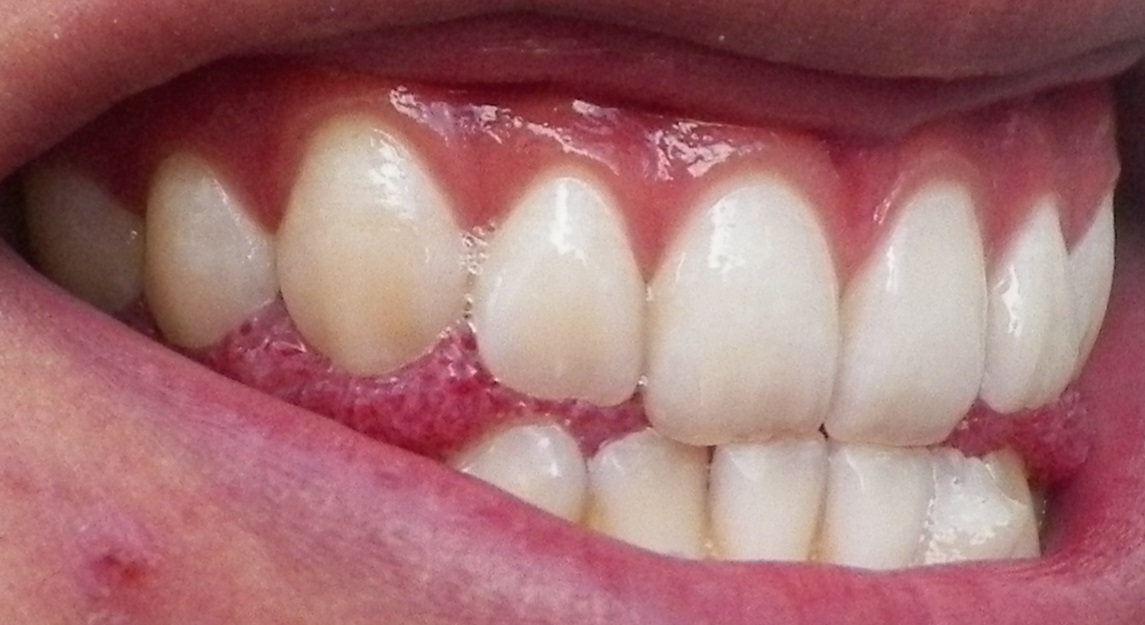boca: (35, 160, 1113, 574)
